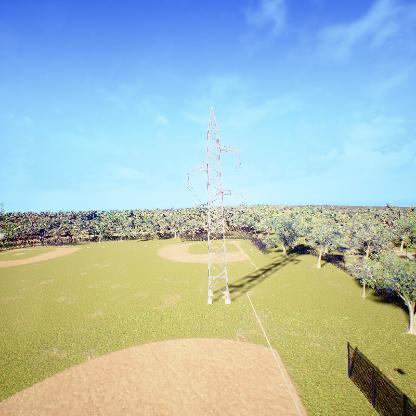tower: (184, 106, 244, 308)
